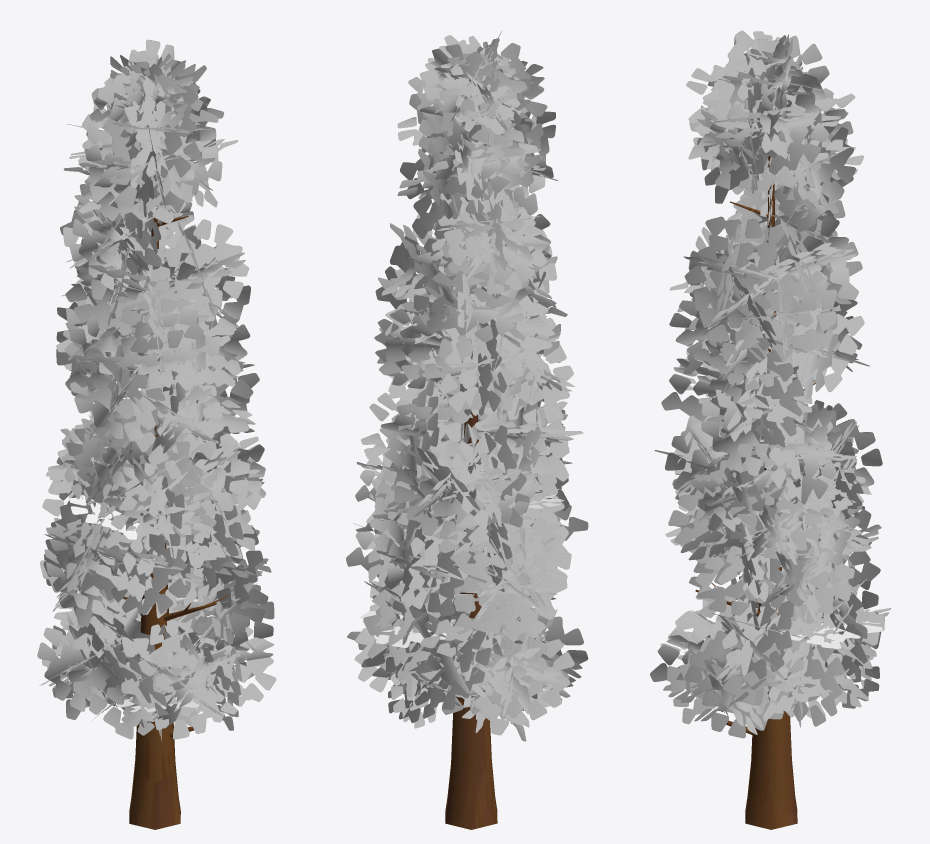
Rendered from STColumnar1.glb.
3 views of the same model, side by side, from view 1: azimuth 30°, elevation 25°; view 2: azimuth 150°, elevation 25°; view 3: azimuth 270°, elevation 25° (orthographic).
Visible parts, largest first — view 1: VertTree1Leaves; view 2: VertTree1Leaves; view 3: VertTree1Leaves.
Part boxes in pixels (x1,y1,x2,y2): VertTree1Leaves: [37, 39, 276, 829]; VertTree1Leaves: [346, 31, 588, 829]; VertTree1Leaves: [650, 30, 891, 829].
Bounding box in the file's own units: 3.95 × 12.44 × 3.91.
Materials: 2 (2 with a texture image).
